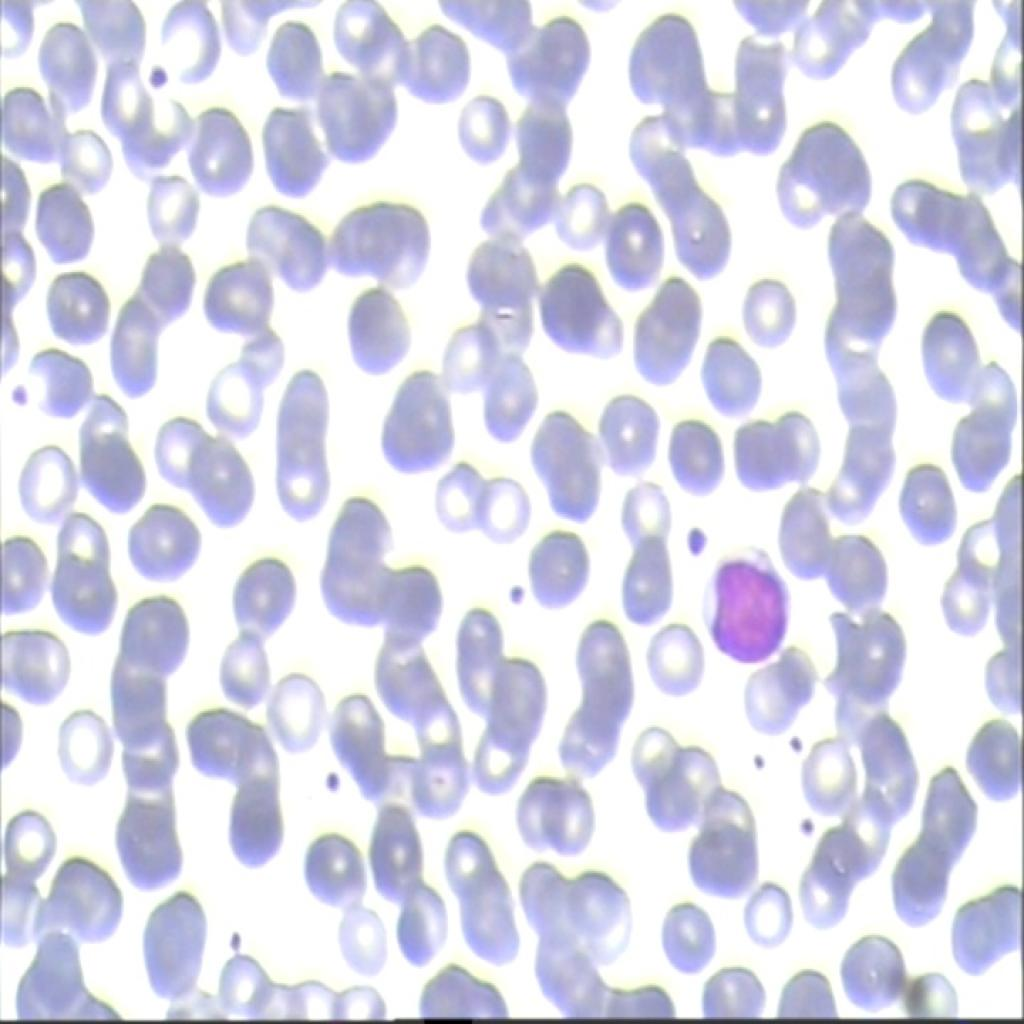Limfosit: (692, 548, 796, 674)
Platelet: (145, 48, 184, 110), (500, 566, 538, 620), (789, 789, 822, 848), (674, 508, 716, 554), (1, 368, 40, 414), (313, 757, 348, 807), (775, 706, 811, 752), (215, 914, 250, 953), (744, 741, 768, 786)
